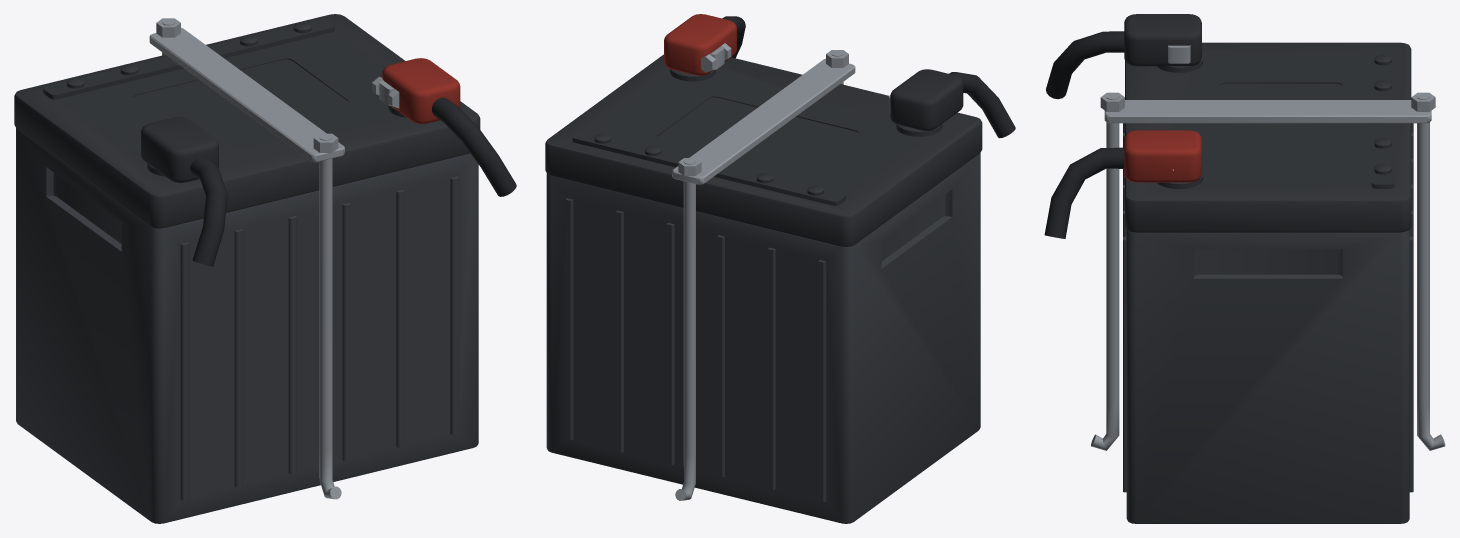
Rendered from battery-v1.glb.
The picture shows the model from 3 angles, left to right: view 1: azimuth 30°, elevation 25°; view 2: azimuth 150°, elevation 25°; view 3: azimuth 270°, elevation 25°; orthographic projection. The views are drawn at different scales.
Visible parts, largest first — view 1: Case, Lid, HoldDown, JBolts, Cables, NegCover, PosCover; view 2: Case, Lid, HoldDown, JBolts, NegCover, PosCover, Cables, PosClamp; view 3: Case, Lid, JBolts, HoldDown, Cables, PosCover, NegCover.
Boxes of the visible parts, x1,y1,x2,y2 form: Case: (16, 128, 478, 523); Lid: (14, 14, 480, 228); HoldDown: (149, 27, 344, 162); JBolts: (156, 18, 341, 499); Cables: (190, 97, 516, 266); NegCover: (141, 117, 218, 182); PosCover: (382, 58, 460, 123); Case: (546, 153, 980, 523); Lid: (545, 54, 982, 246); HoldDown: (672, 58, 855, 184); JBolts: (675, 50, 848, 500); NegCover: (890, 69, 963, 130); PosCover: (664, 14, 736, 75); Cables: (722, 16, 1015, 138); PosClamp: (701, 43, 731, 72); Case: (1123, 123, 1413, 523); Lid: (1125, 42, 1411, 232); JBolts: (1091, 92, 1445, 450); HoldDown: (1104, 100, 1431, 123); Cables: (1044, 31, 1124, 238); PosCover: (1124, 130, 1201, 182); NegCover: (1124, 14, 1201, 66).
Size of the model in its own units: 0.232 by 0.2513 by 0.2478.
